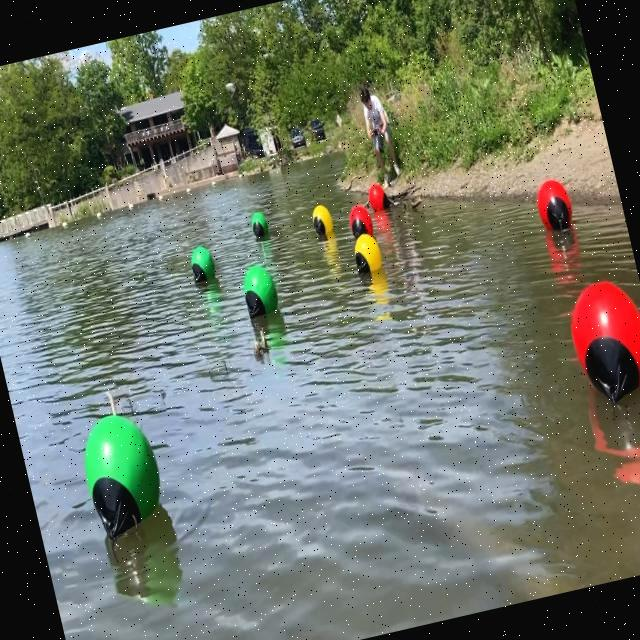buoy: (74, 406, 173, 541), (560, 268, 640, 413), (235, 260, 282, 322), (533, 172, 578, 235), (351, 228, 385, 278), (186, 241, 218, 283), (346, 200, 375, 238), (309, 202, 335, 238), (364, 180, 392, 212), (248, 210, 269, 240)
